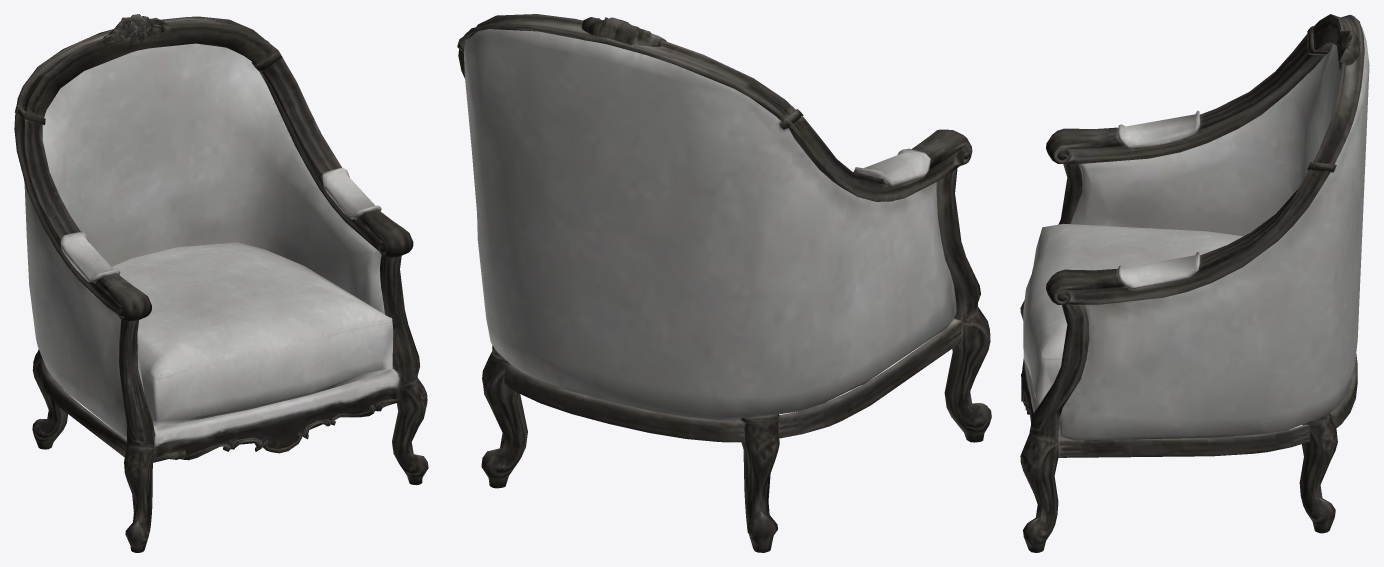
File: armchair.glb
3 views of the same model, side by side, from view 1: azimuth 30°, elevation 25°; view 2: azimuth 150°, elevation 25°; view 3: azimuth 270°, elevation 25° (orthographic). The views are drawn at different scales.
Visible parts, largest first — view 1: ArmChair_01; view 2: ArmChair_01; view 3: ArmChair_01.
Part boxes in pixels (x1,y1,x2,y2): ArmChair_01: (14,14,428,552); ArmChair_01: (457,14,991,552); ArmChair_01: (1020,14,1369,552).
Size of the model in its own units: 0.9755 by 1.22 by 0.8807.
Materials: 1 (1 with a texture image).
